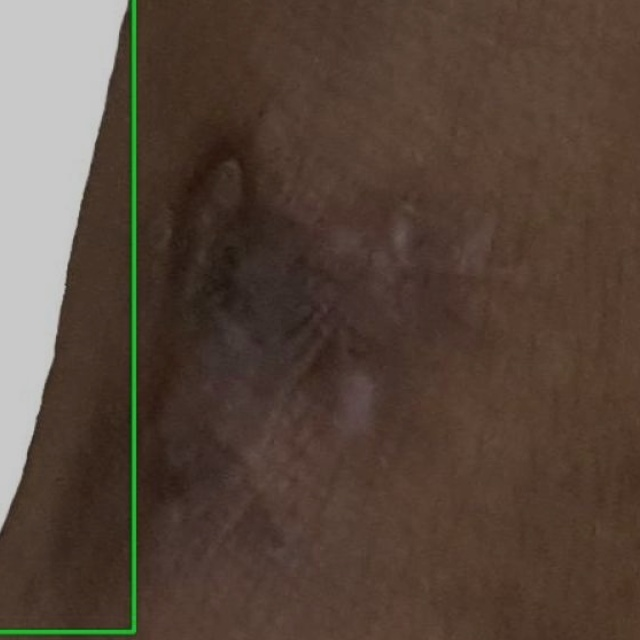Contact Dermatitis: (0, 0, 135, 633)
